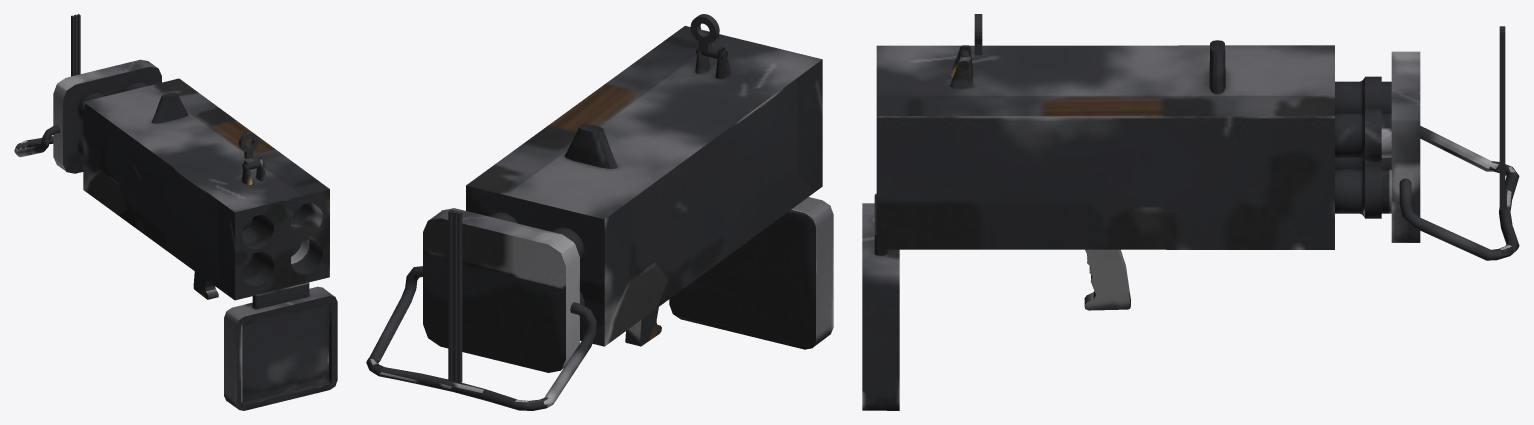
File: quad_rocket_launcher.glb
The picture shows the model from 3 angles, left to right: view 1: azimuth 30°, elevation 25°; view 2: azimuth 150°, elevation 25°; view 3: azimuth 270°, elevation 25°; orthographic projection. The views are drawn at different scales.
Visible parts, largest first — view 1: quadrocket, quadrocketdevant_low, quadrocketderierre_low, rear_ring; view 2: quadrocket, quadrocketderierre_low, quadrocketdevant_low, front_post, front_ear-1, front_ear1, rear_ring; view 3: quadrocket, quadrocketderierre_low, quadrocketdevant_low, front_ear1.
Part boxes in pixels (box(x1,y1,x2,y2)): quadrocket: box(83, 78, 329, 300); quadrocketdevant_low: box(224, 281, 337, 410); quadrocketderierre_low: box(14, 59, 161, 173); rear_ring: box(238, 131, 258, 152); quadrocket: box(466, 26, 822, 346); quadrocketderierre_low: box(366, 208, 596, 410); quadrocketdevant_low: box(669, 197, 833, 349); front_post: box(452, 210, 458, 381); front_ear-1: box(457, 211, 462, 382); front_ear1: box(448, 209, 453, 380); rear_ring: box(690, 14, 719, 43); quadrocket: box(876, 40, 1334, 310); quadrocketderierre_low: box(1335, 51, 1519, 260); quadrocketdevant_low: box(862, 193, 899, 410); front_ear1: box(1499, 31, 1505, 210).
Size of the model in its own units: 0.2987 by 0.5204 by 0.8529.
Materials: 2 (1 with a texture image).
